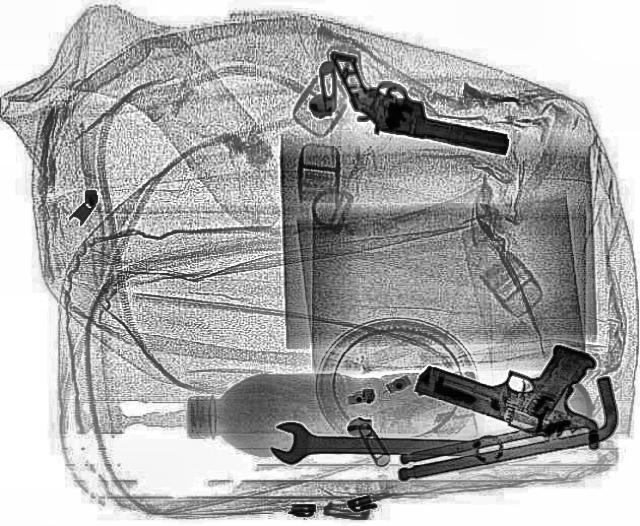Gun: (409, 306, 639, 456), (300, 48, 530, 166)
Wrench: (268, 420, 504, 474)
